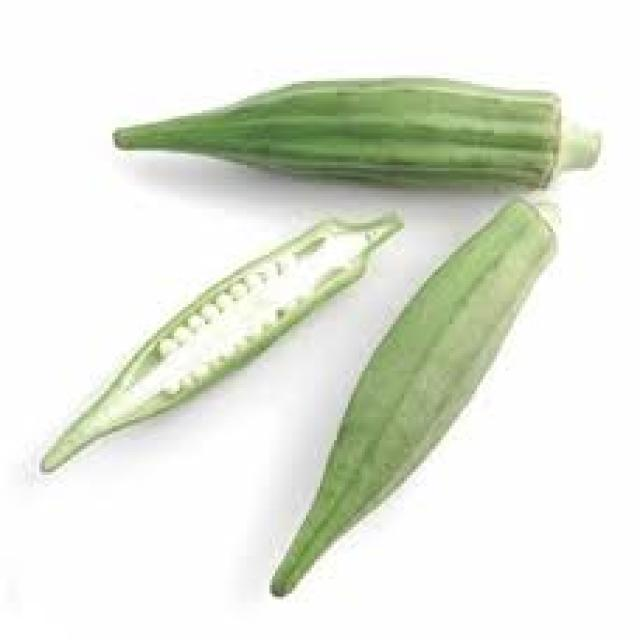ledisfingers: (28, 55, 637, 631)
